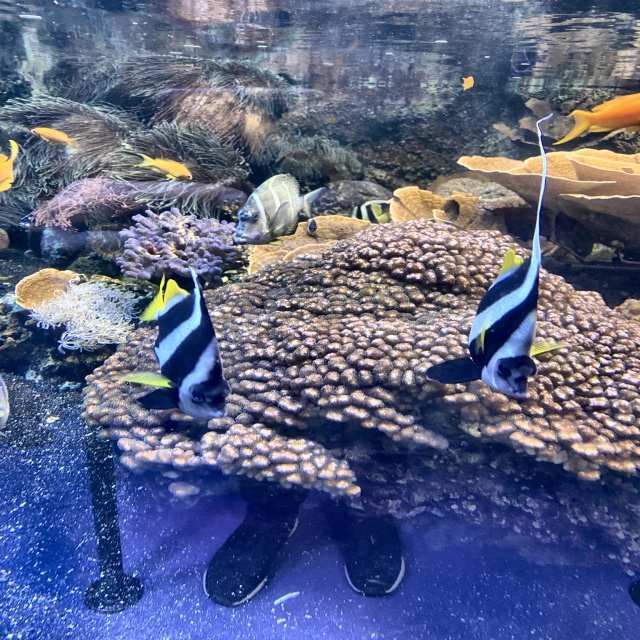fish: (427, 249, 559, 398), (116, 272, 229, 418), (238, 172, 322, 240), (553, 91, 639, 144), (133, 152, 190, 182), (355, 199, 392, 223), (0, 140, 18, 189), (30, 128, 73, 145), (460, 75, 473, 89)
